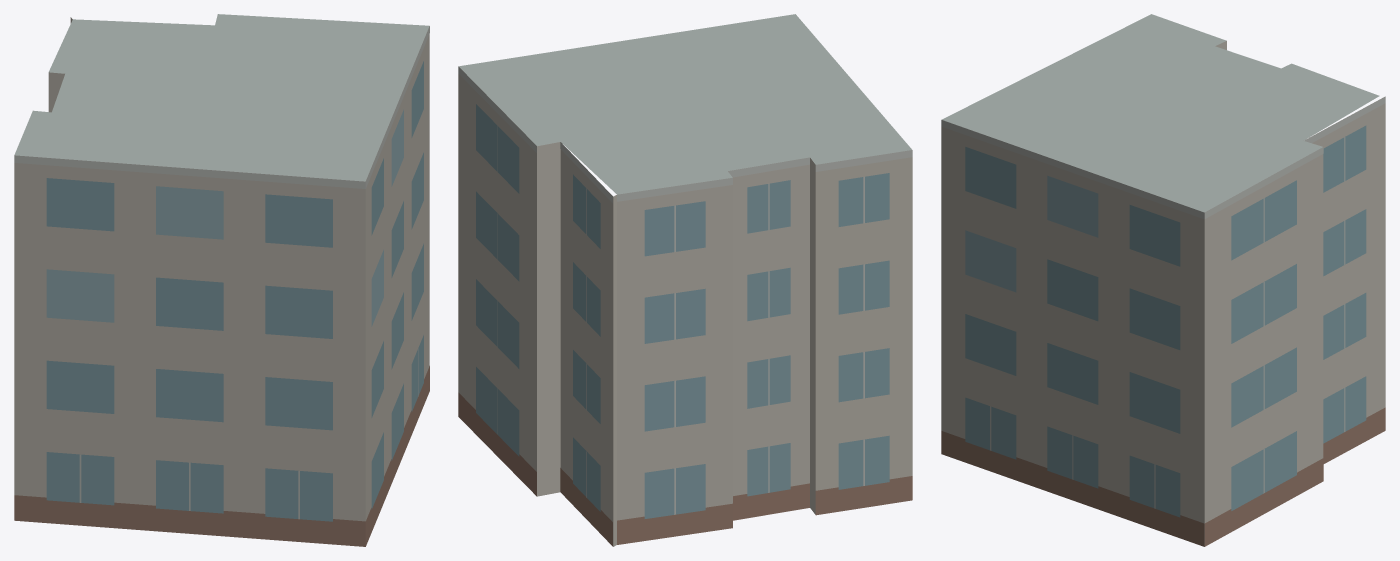
The model's file is survey-upis-32779296.glb.
3 renders of one model, left to right at view 1: azimuth 30°, elevation 25°; view 2: azimuth 150°, elevation 25°; view 3: azimuth 270°, elevation 25°, orthographic. The views are drawn at different scales.
Visible parts, largest first — view 1: survey-upis-32779296.tmp; view 2: survey-upis-32779296.tmp; view 3: survey-upis-32779296.tmp.
Part boxes in pixels (bbox=[...]): survey-upis-32779296.tmp: bbox=[14, 14, 429, 546]; survey-upis-32779296.tmp: bbox=[458, 14, 912, 546]; survey-upis-32779296.tmp: bbox=[941, 14, 1385, 546].
Bounding box in the file's own units: 15.16 × 11.9 × 14.33.
